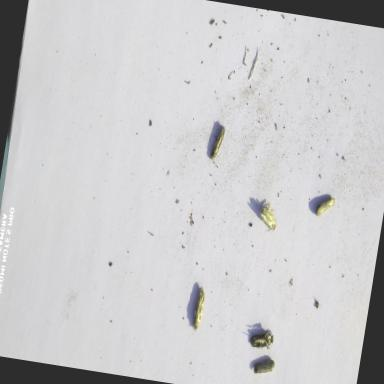pbw: (190, 282, 208, 333), (247, 322, 276, 352), (208, 122, 228, 163), (255, 200, 280, 231), (314, 193, 337, 221), (250, 354, 276, 378)
